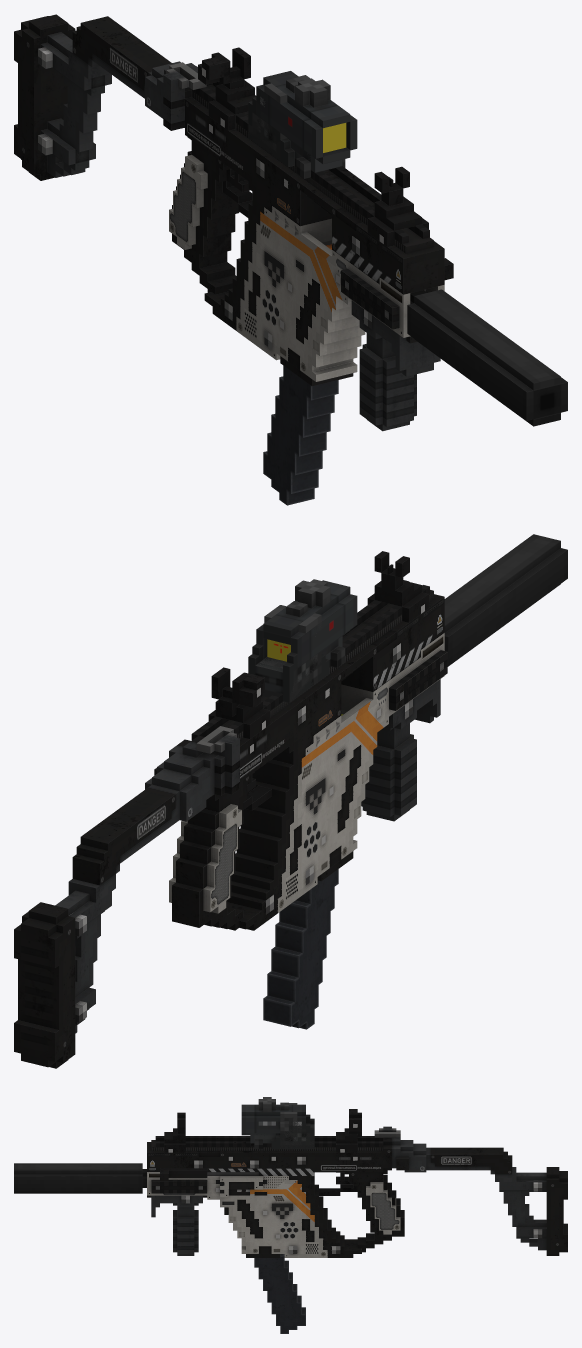
File: RD_KRISS_A12.glb
3 renders of one model, top to bottom at view 1: azimuth 30°, elevation 25°; view 2: azimuth 150°, elevation 25°; view 3: azimuth 270°, elevation 25°, orthographic. The views are drawn at different scales.
Parts seen in each view (by area): view 1: KRISS_VECTOR, SILENCER_6X6, KRISS_VECTOR_CLIP2, SCOPE_TASCO, KRISS_VECTOR_GRIP, KRISS_VECTOR_SCOPE, SCOPE_EOTECH, SCOPE_HOLOSUN; view 2: KRISS_VECTOR, SILENCER_6X6, KRISS_VECTOR_CLIP2, SCOPE_TASCO, KRISS_VECTOR_GRIP, KRISS_VECTOR_SCOPE, SCOPE_EOTECH, SCOPE_HOLOSUN; view 3: KRISS_VECTOR, SILENCER_6X6, KRISS_VECTOR_CLIP2, KRISS_VECTOR_GRIP, SCOPE_TASCO, KRISS_VECTOR_SCOPE, SCOPE_EOTECH, SCOPE_HOLOSUN, KRISS_VECTOR_BOLT.
Boxes of the visible parts, x1,y1,x2,y2 form: KRISS_VECTOR: (14,14,444,381); SILENCER_6X6: (407,289,567,426); KRISS_VECTOR_CLIP2: (263,365,338,505); SCOPE_TASCO: (256,71,357,178); KRISS_VECTOR_GRIP: (351,300,440,431); KRISS_VECTOR_SCOPE: (198,47,428,246); SCOPE_EOTECH: (248,94,342,172); SCOPE_HOLOSUN: (248,75,310,160); KRISS_VECTOR: (14,580,447,1068); SILENCER_6X6: (444,534,567,666); KRISS_VECTOR_CLIP2: (263,869,338,1029); SCOPE_TASCO: (256,579,357,685); KRISS_VECTOR_GRIP: (361,679,440,821); KRISS_VECTOR_SCOPE: (208,551,428,738); SCOPE_EOTECH: (248,631,342,702); SCOPE_HOLOSUN: (256,605,321,701); KRISS_VECTOR: (142,1126,567,1257); SILENCER_6X6: (14,1163,142,1193); KRISS_VECTOR_CLIP2: (254,1254,305,1333); KRISS_VECTOR_GRIP: (151,1195,202,1255); SCOPE_TASCO: (241,1097,305,1148); KRISS_VECTOR_SCOPE: (164,1109,361,1152); SCOPE_EOTECH: (250,1114,314,1148); SCOPE_HOLOSUN: (280,1103,314,1148); KRISS_VECTOR_BOLT: (160,1168,207,1181).
Bounding box in the file's own units: 0.1082 × 0.5806 × 1.27.
9 materials, 9 textured.
